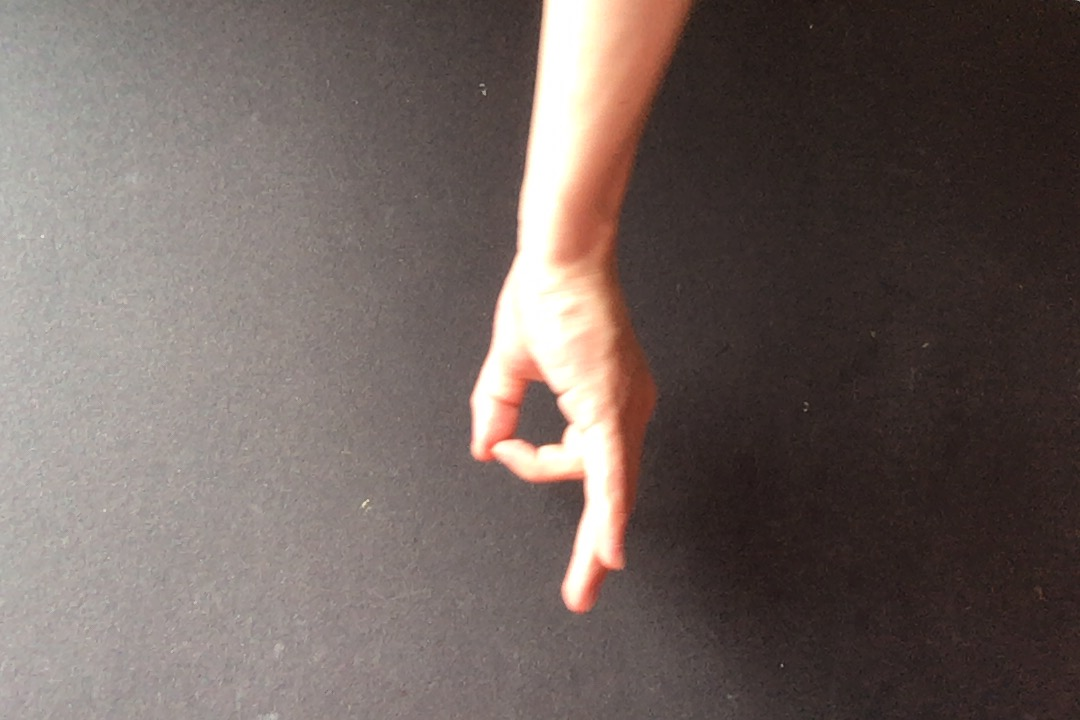oksign: (461, 239, 665, 620)
